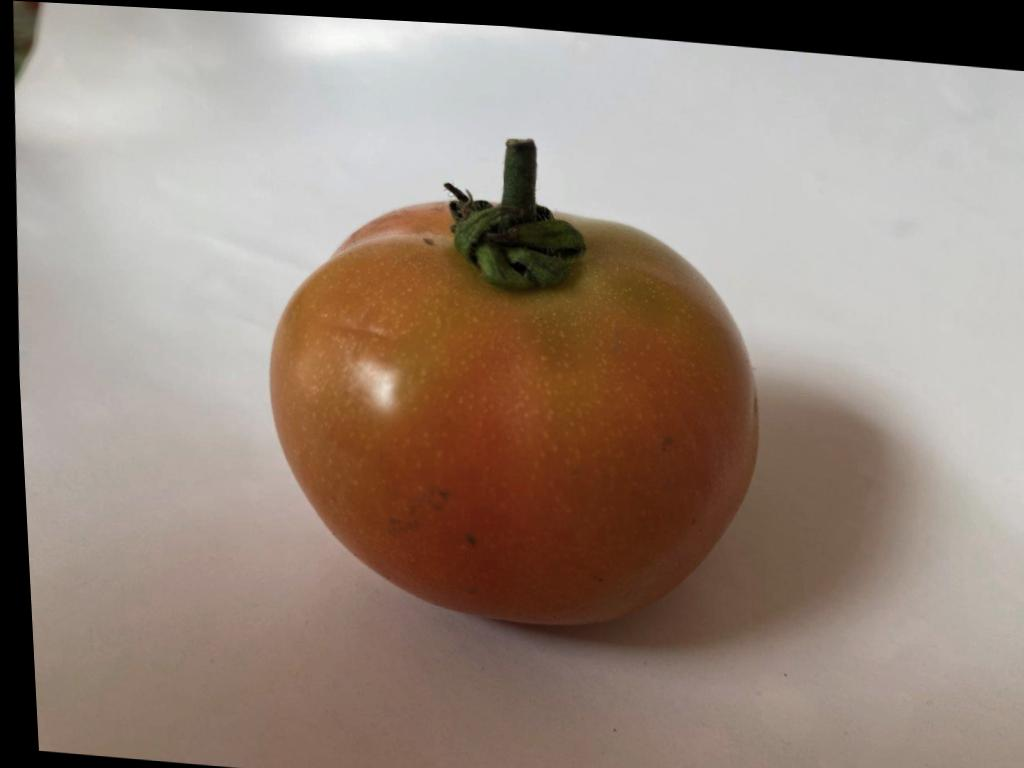tomato: (271, 139, 758, 623)
